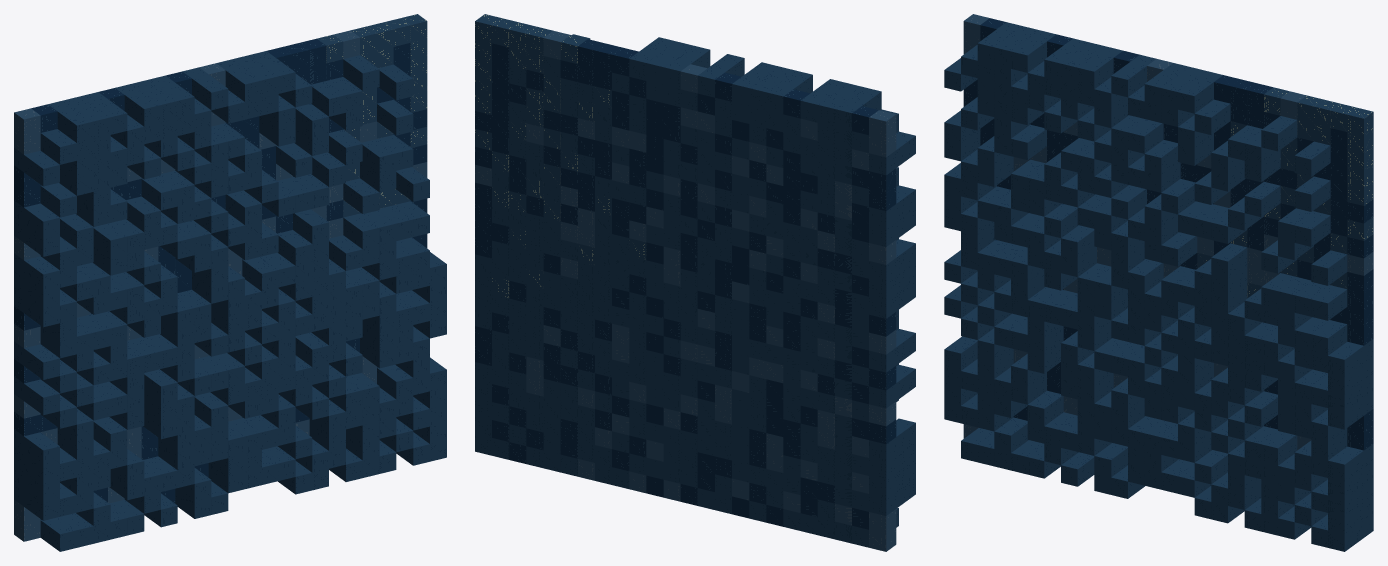
3 views of the same model, side by side, from view 1: azimuth 30°, elevation 25°; view 2: azimuth 150°, elevation 25°; view 3: azimuth 330°, elevation 25° (orthographic). The views are drawn at different scales.
Size of the model in its own units: 2.4 by 2.4 by 0.3.
